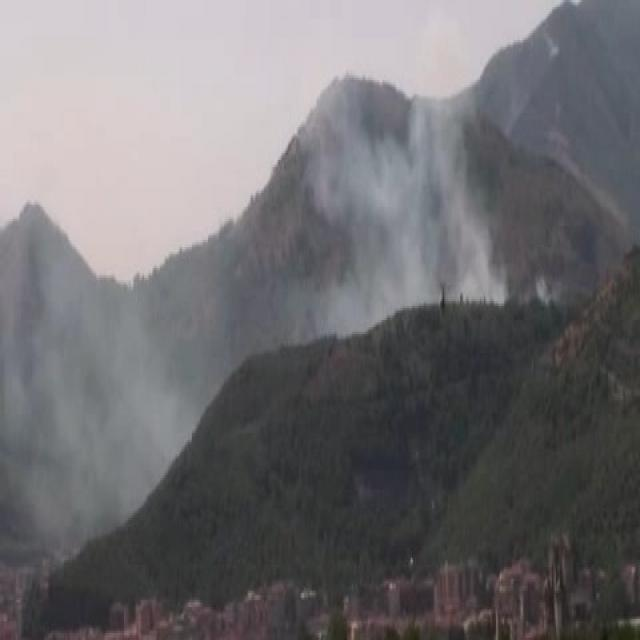smoke: (273, 95, 498, 331), (29, 288, 184, 494)
